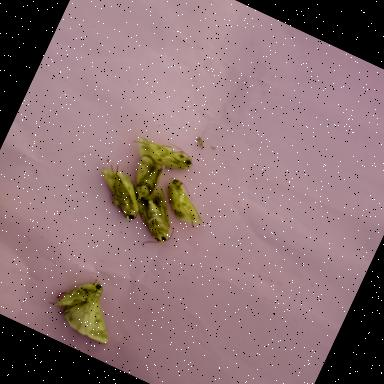abw: (41, 261, 132, 348), (122, 178, 194, 258), (84, 156, 156, 225), (126, 123, 204, 182), (154, 171, 216, 232), (116, 148, 172, 208)
